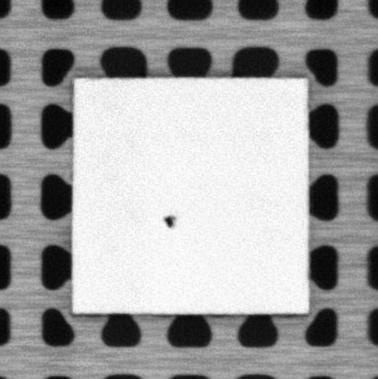DIE_INK: (162, 213, 176, 229)
